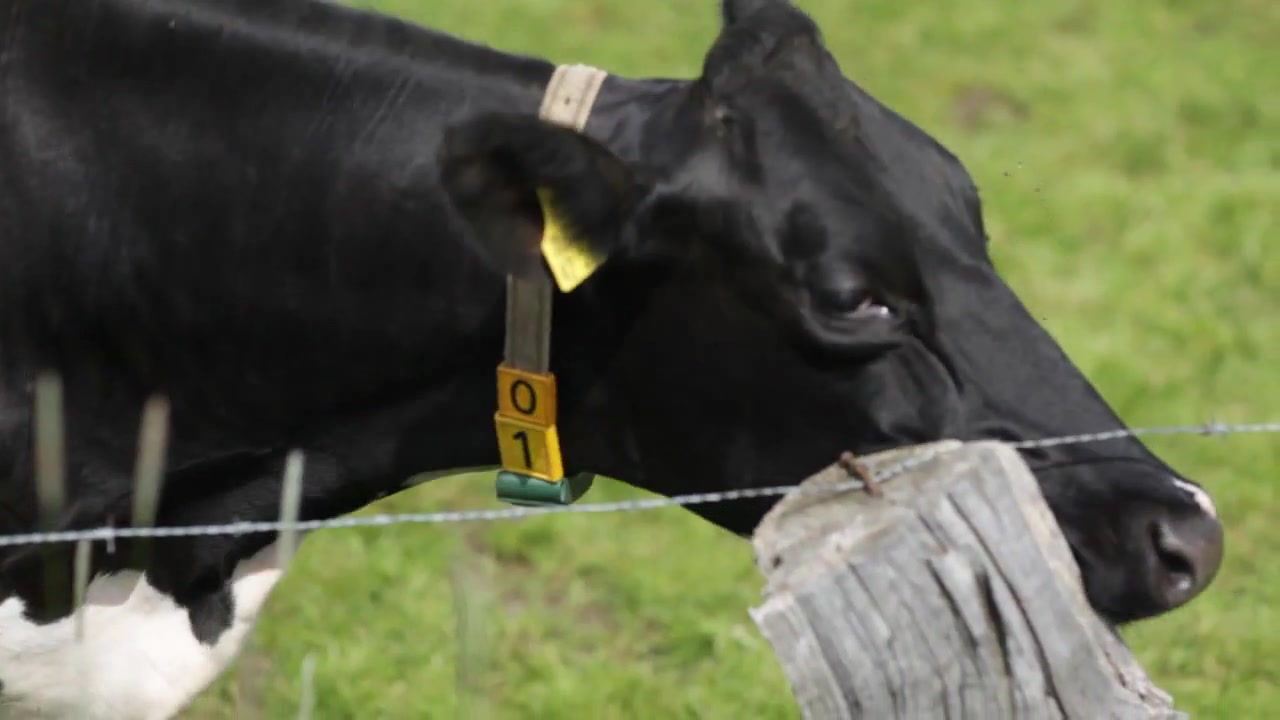cow: (1, 1, 1231, 720)
